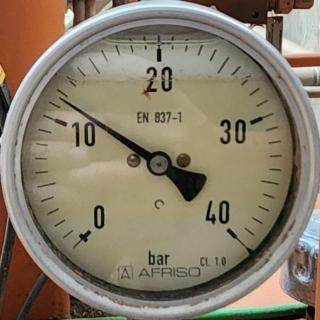gauge: (1, 1, 319, 319), (196, 198, 252, 258), (64, 203, 112, 257), (146, 150, 173, 177), (55, 93, 69, 107)
